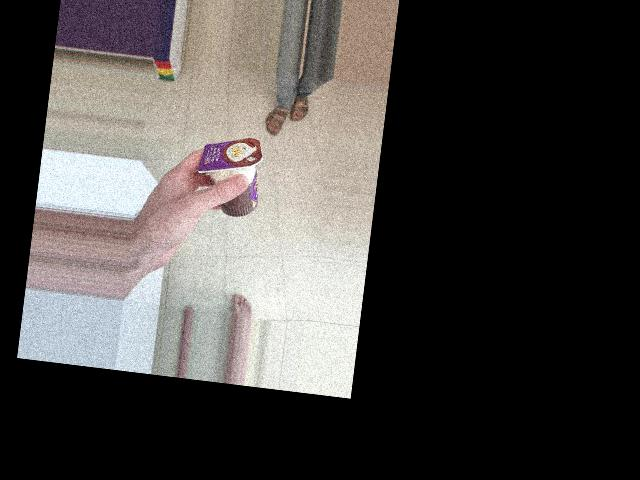milky: (209, 126, 306, 196)
